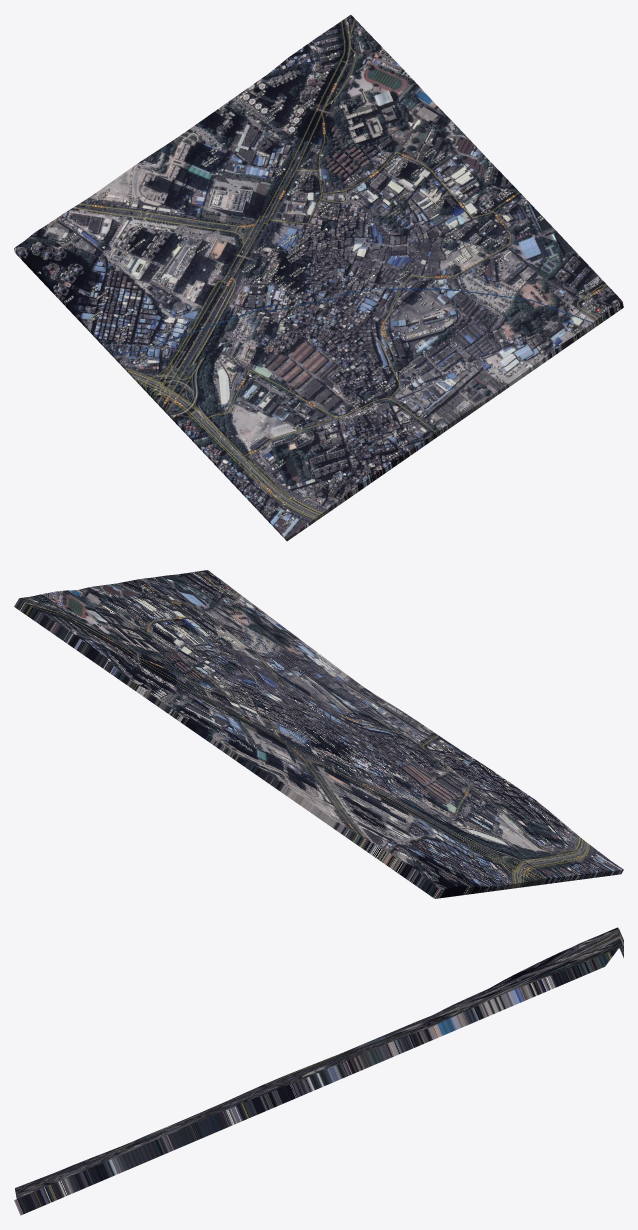
The picture shows the model from 3 angles, top to bottom: view 1: azimuth 30°, elevation 25°; view 2: azimuth 150°, elevation 25°; view 3: azimuth 270°, elevation 25°; orthographic projection. The views are drawn at different scales.
Parts seen in each view (by area): view 1: 1_9_7; view 2: 1_9_7; view 3: 1_9_7.
Boxes of the visible parts, bbox=[...] form: 1_9_7: bbox=[14, 15, 623, 541]; 1_9_7: bbox=[14, 570, 623, 898]; 1_9_7: bbox=[14, 927, 623, 1215].
Size of the model in its own units: 1231 by 902 by 1131.
Materials: 1 (1 with a texture image).
